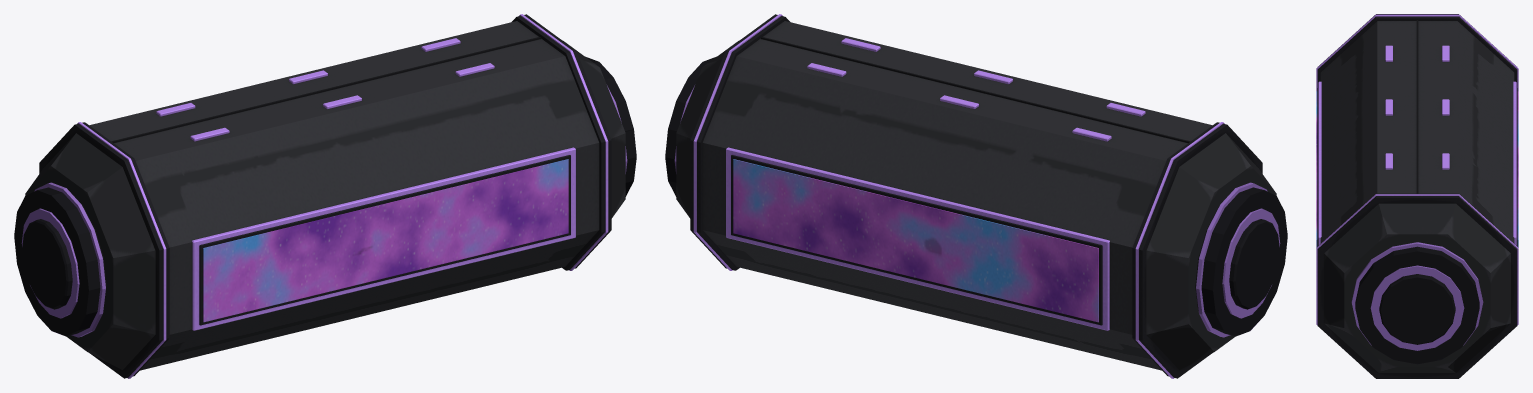
File: SM_Recreation.fbx
The picture shows the model from 3 angles, left to right: view 1: azimuth 30°, elevation 25°; view 2: azimuth 150°, elevation 25°; view 3: azimuth 270°, elevation 25°; orthographic projection. The views are drawn at different scales.
Visible parts, largest first — view 1: SMT_Recreation; view 2: SMT_Recreation; view 3: SMT_Recreation.
Boxes of the visible parts, x1,y1,x2,y2 form: SMT_Recreation: (14, 14, 636, 378); SMT_Recreation: (665, 14, 1287, 378); SMT_Recreation: (1316, 14, 1518, 378).
Size of the model in its own units: 1.91 by 0.7132 by 0.7137.
